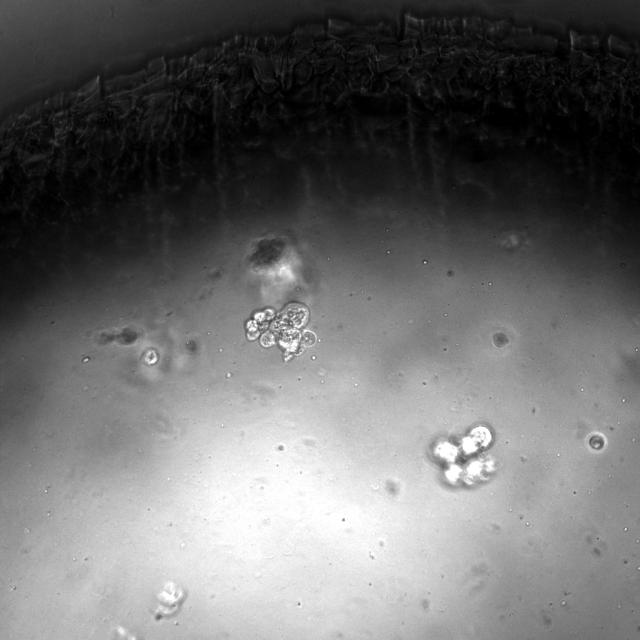organoid: (428, 421, 495, 486), (245, 302, 316, 361), (248, 235, 292, 273), (154, 581, 186, 619), (94, 324, 142, 346), (141, 348, 159, 365), (588, 434, 605, 450), (492, 332, 508, 348), (185, 339, 196, 352)
